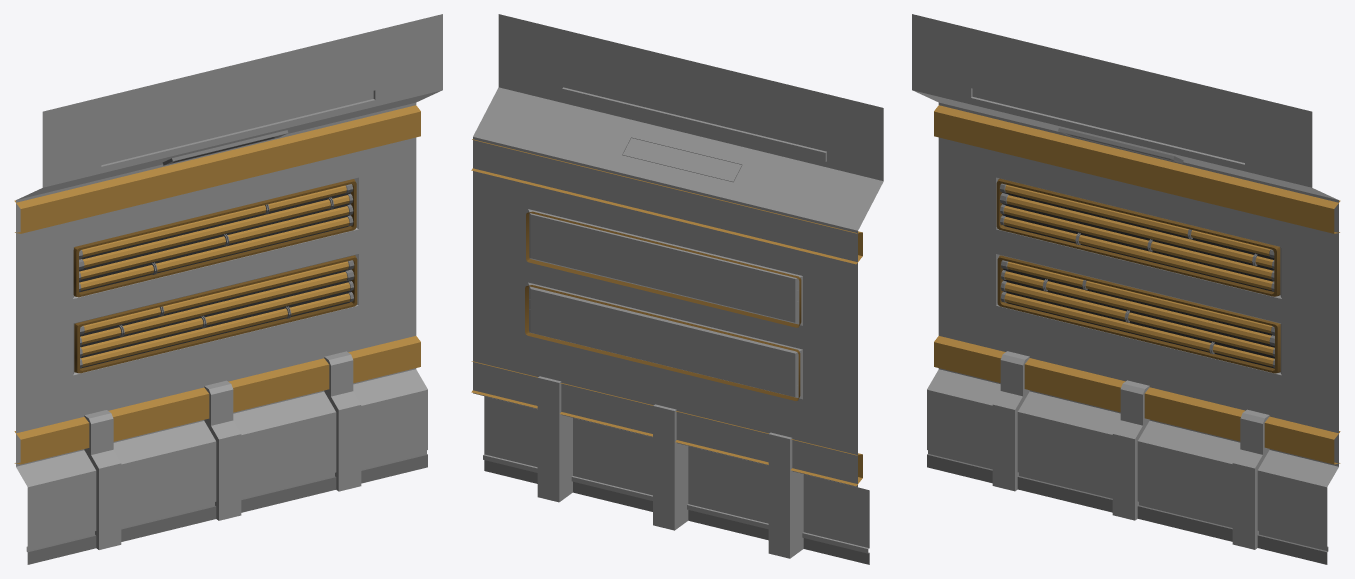
File: Wall_5.glb
The picture shows the model from 3 angles, left to right: view 1: azimuth 30°, elevation 25°; view 2: azimuth 150°, elevation 25°; view 3: azimuth 330°, elevation 25°; orthographic projection. The views are drawn at different scales.
Parts seen in each view (by area): view 1: Wall_5; view 2: Wall_5; view 3: Wall_5.
Boxes of the visible parts, box(x1,y1,x2,y2) form: Wall_5: box(14, 14, 442, 564); Wall_5: box(471, 14, 883, 564); Wall_5: box(912, 14, 1340, 564).
Bounding box in the file's own units: 1.36 × 1.51 × 0.1795.
